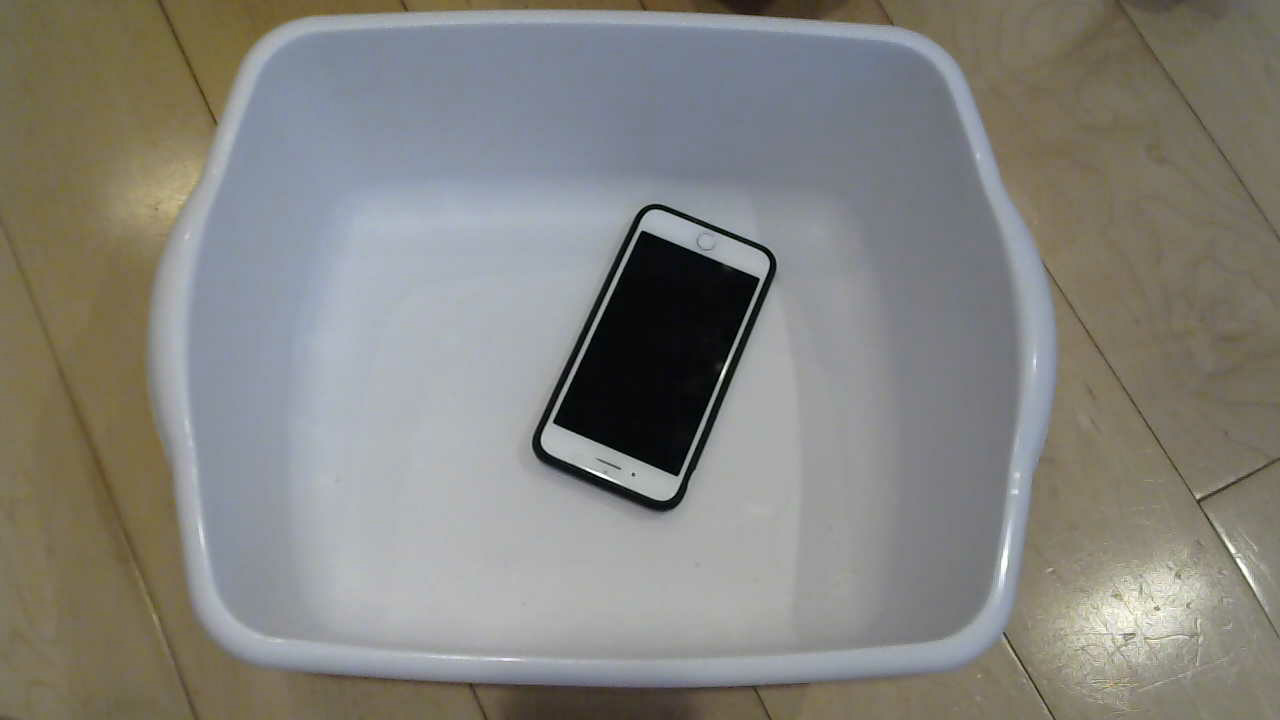phone: (511, 194, 790, 528)
